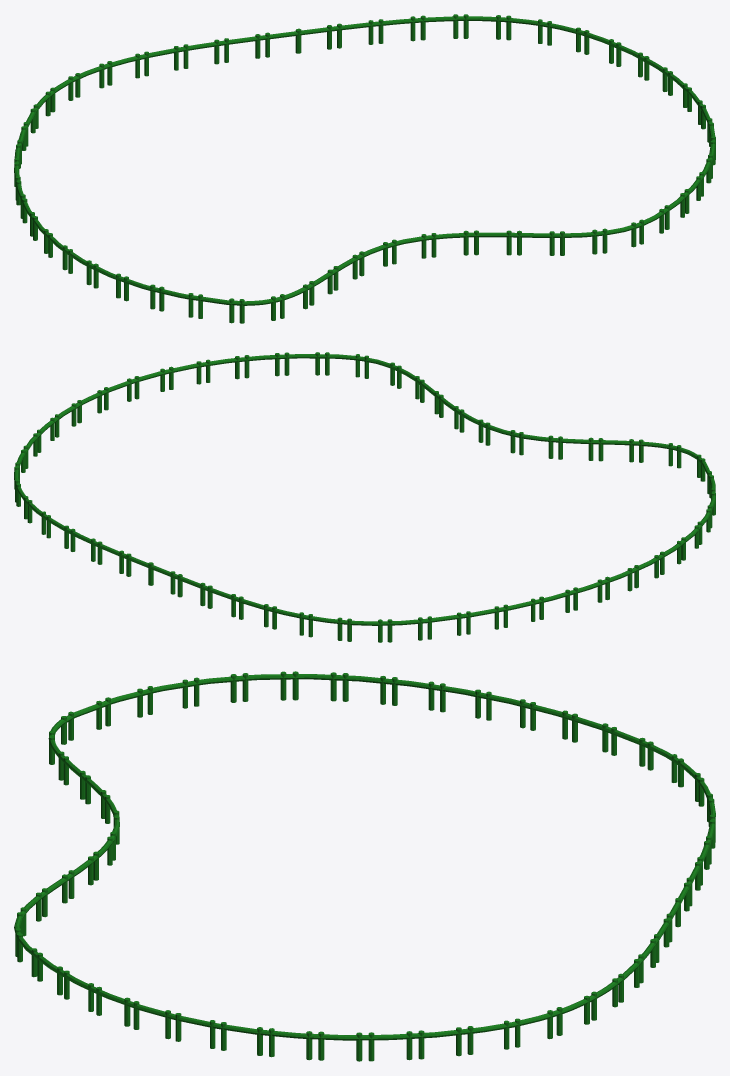
The model's file is fence.fbx.
The picture shows the model from 3 angles, top to bottom: view 1: azimuth 30°, elevation 25°; view 2: azimuth 150°, elevation 25°; view 3: azimuth 270°, elevation 25°; orthographic projection. The views are drawn at different scales.
Visible parts, largest first — view 1: Cylinder; view 2: Cylinder; view 3: Cylinder.
Part boxes in pixels (bbox=[...]): Cylinder: bbox=[14, 14, 715, 323]; Cylinder: bbox=[14, 352, 715, 642]; Cylinder: bbox=[14, 671, 715, 1061].
Bounding box in the file's own units: 4899 × 168 × 3996.
